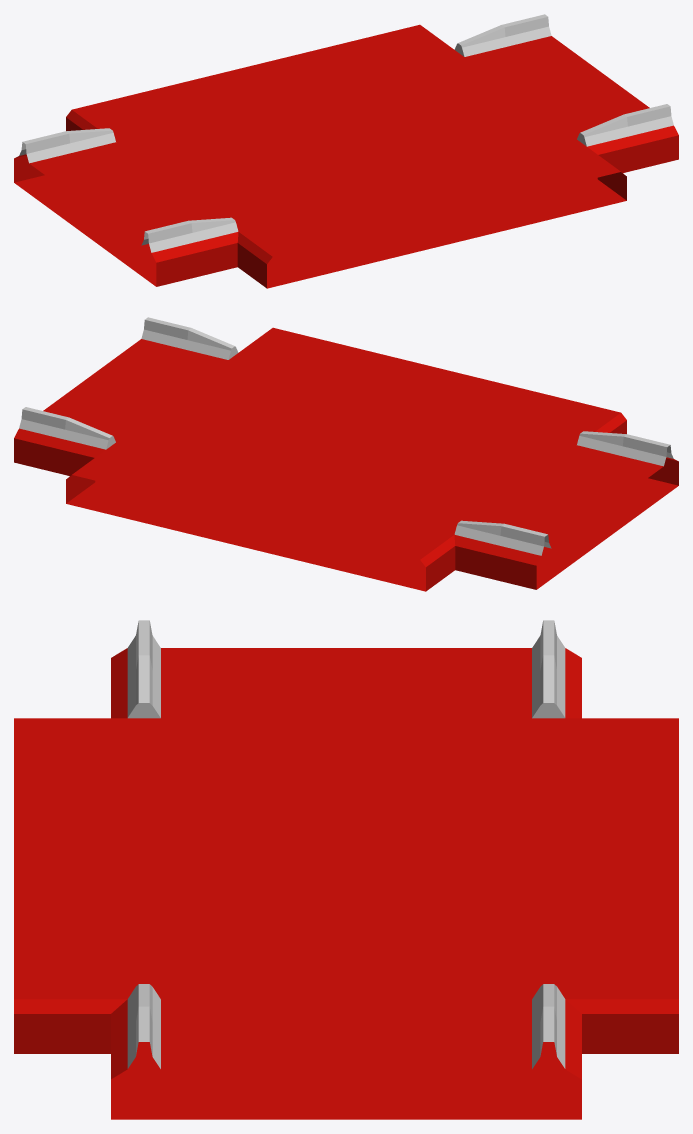
File: SM_Connector_HighwayRamp2Road_4Ways.fbx
The picture shows the model from 3 angles, top to bottom: view 1: azimuth 30°, elevation 25°; view 2: azimuth 150°, elevation 25°; view 3: azimuth 270°, elevation 25°; orthographic projection. The views are drawn at different scales.
Visible parts, largest first — view 1: Connector_HighwayRamp2Road_4Ways; view 2: Connector_HighwayRamp2Road_4Ways; view 3: Connector_HighwayRamp2Road_4Ways.
Boxes of the visible parts, x1,y1,x2,y2 form: Connector_HighwayRamp2Road_4Ways: (14, 14, 678, 288); Connector_HighwayRamp2Road_4Ways: (14, 317, 678, 591); Connector_HighwayRamp2Road_4Ways: (14, 620, 678, 1119).
Size of the model in its own units: 3600 by 310 by 2400.
